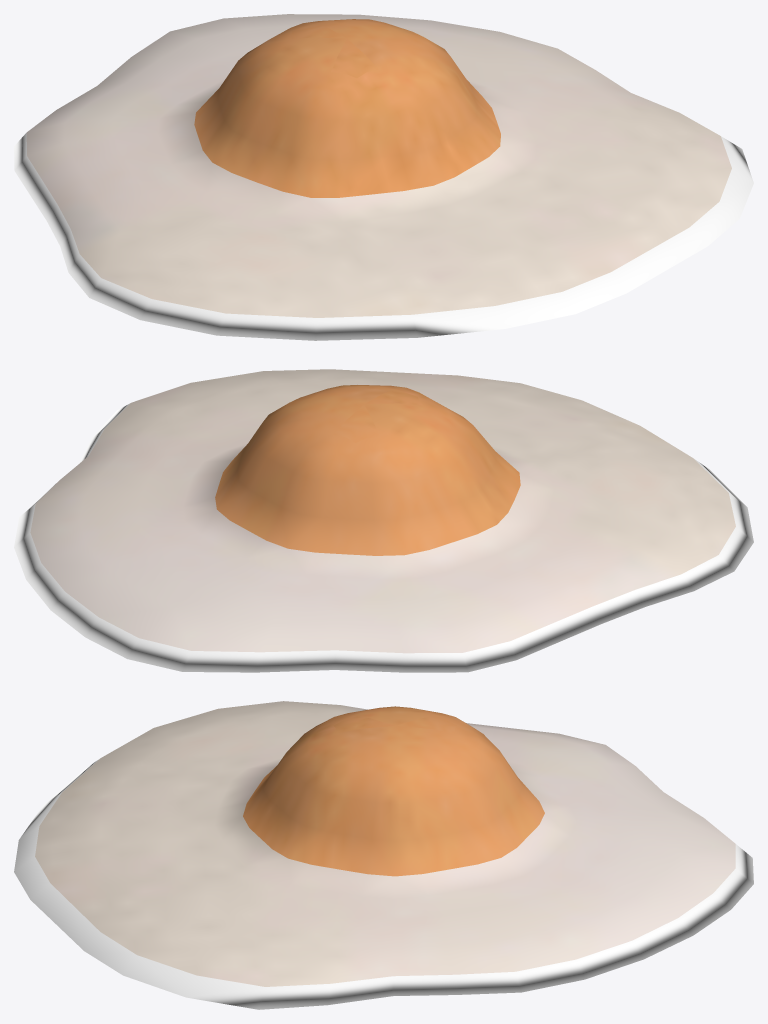
File: FriedEgg.fbx
3 views of the same model, one above another, from view 1: azimuth 30°, elevation 25°; view 2: azimuth 150°, elevation 25°; view 3: azimuth 270°, elevation 25° (orthographic). The views are drawn at different scales.
Visible parts, largest first — view 1: Bushlime; view 2: Bushlime; view 3: Bushlime.
Part boxes in pixels (x1,y1,x2,y2): Bushlime: (14, 14, 753, 340); Bushlime: (14, 369, 753, 672); Bushlime: (14, 701, 753, 1009).
Bounding box in the file's own units: 0.6657 × 0.1525 × 0.6917.
